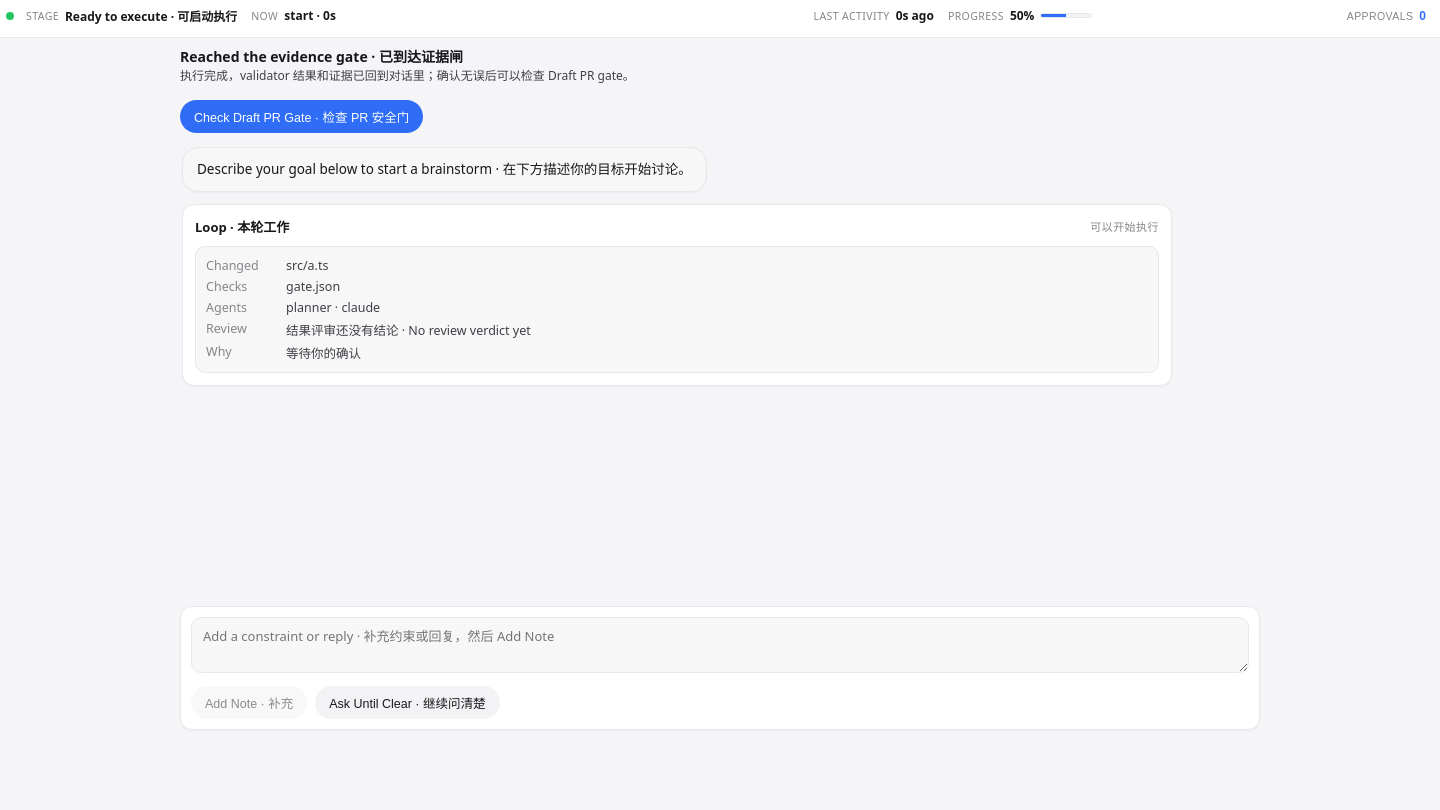
Draft PR gate card · GEMINI_NOT_CONFIGURED is humanized › renders the blocked card without the raw code in visible text, keeping it in data-pr-gate-code
This screenshot has width=1440, height=810.
Click the button with test id "cockpit-check-draft-pr-gate": (302, 116) [180,100,423,133]
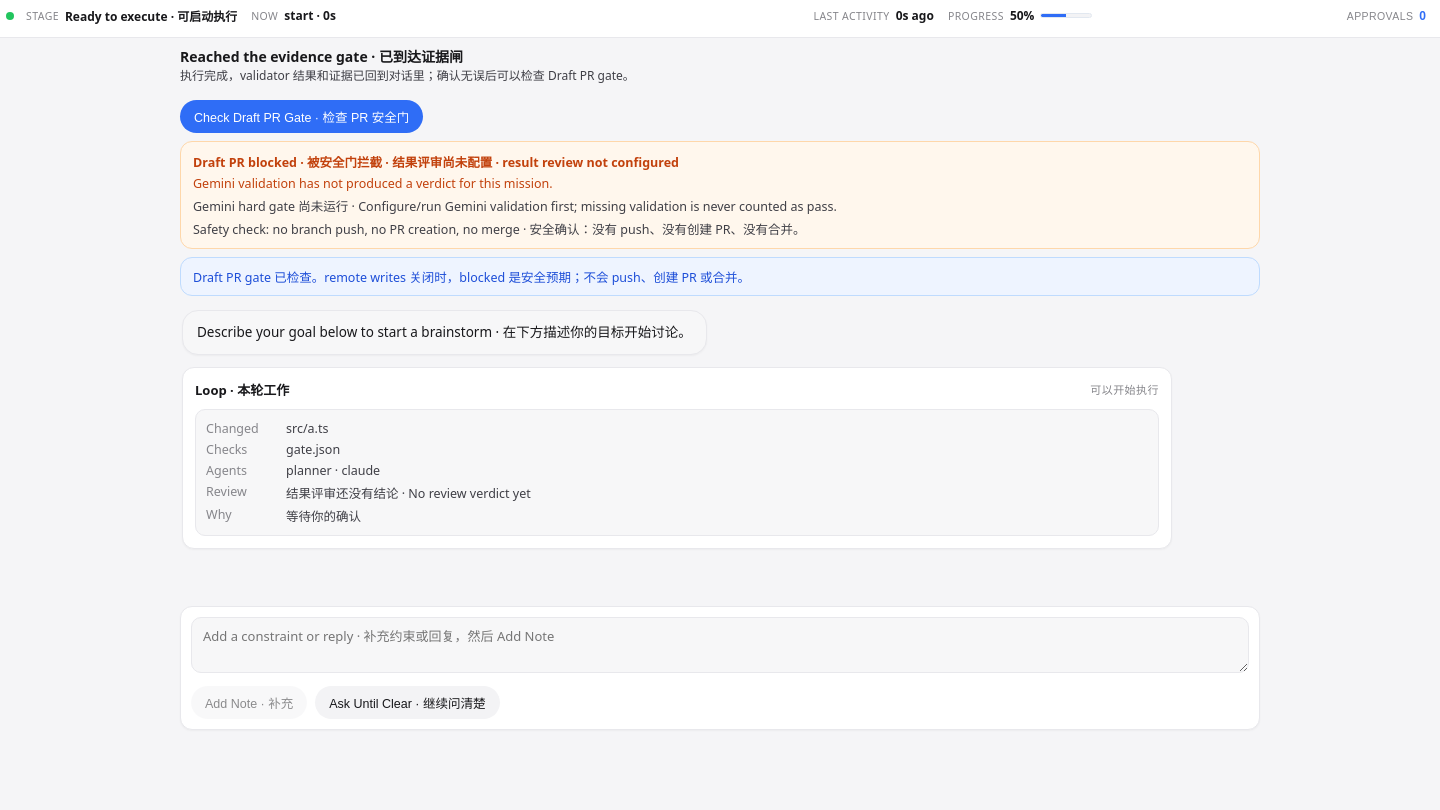
Result: the element with test id "cockpit-pr-gate-card" shows "结果评审尚未配置" at [193,154,679,171]
Result: the element with test id "cockpit-pr-gate-card" shows "result review not configured" at [193,154,679,171]
